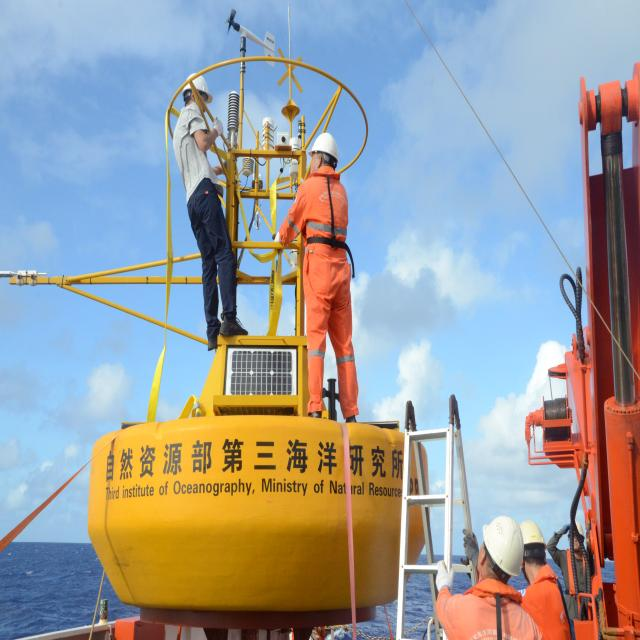buoy: (87, 26, 424, 630)
